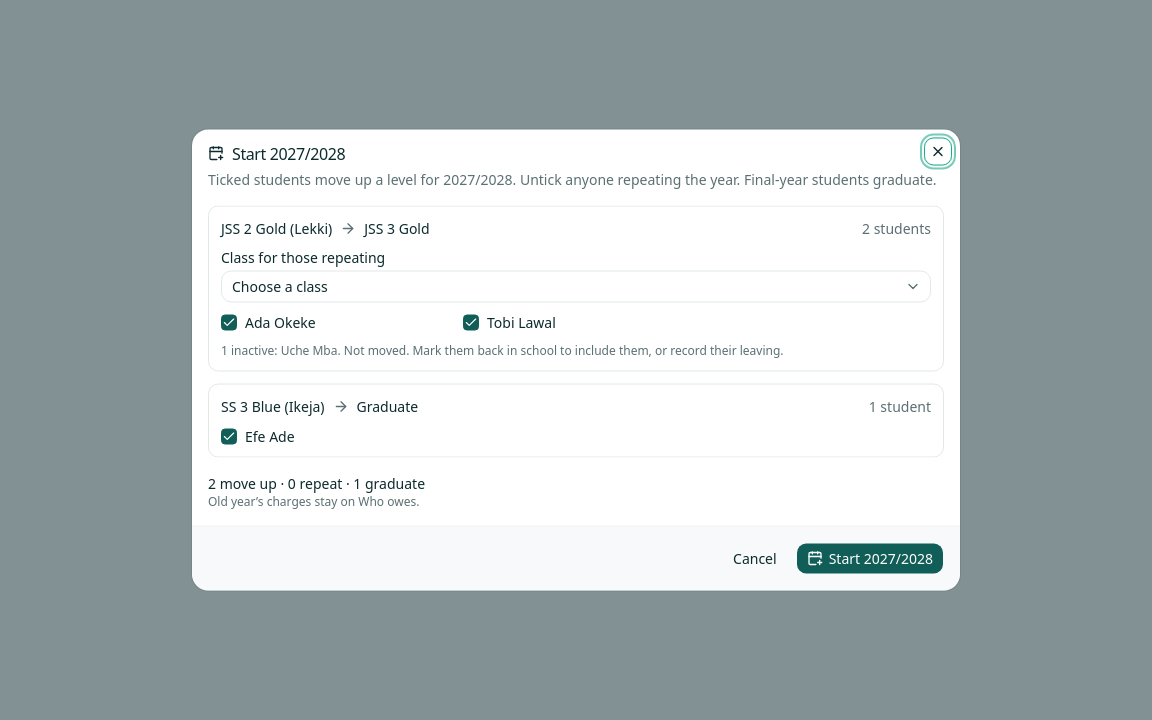
Test case: StartYearDialog › asks for a class for those repeating when the current class is archived
Click the checkbox named "Tobi Lawal" next to "Tobi": (471, 322) [463,314,479,330]
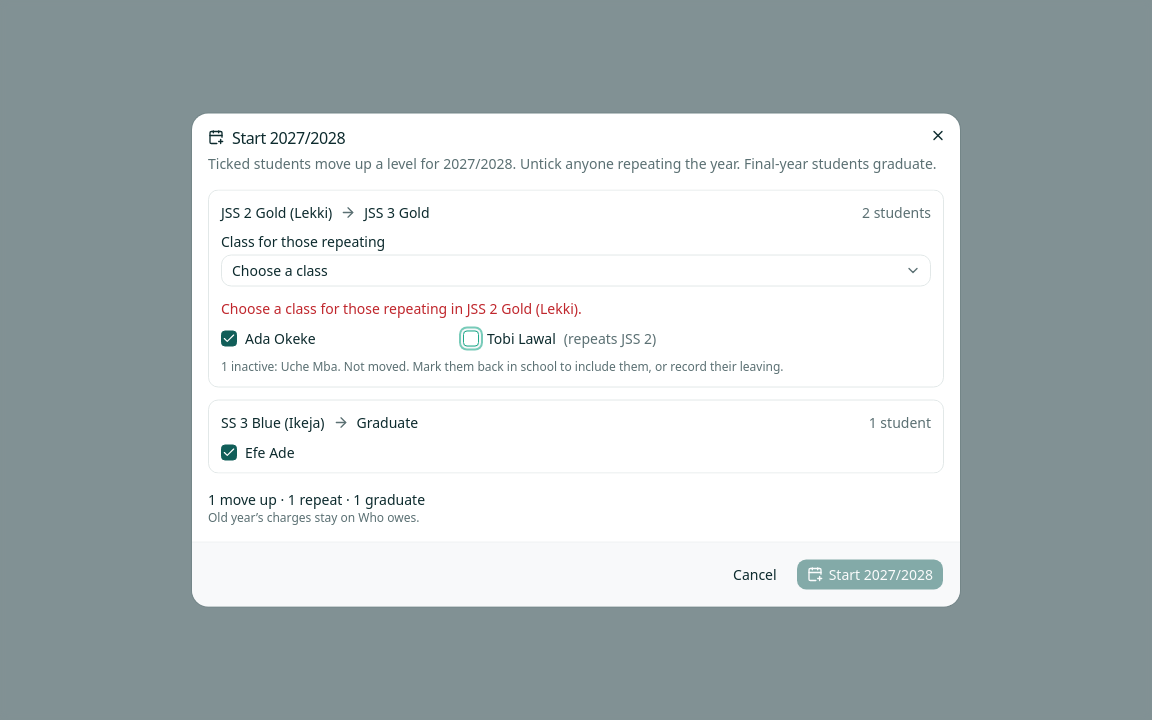
Expected: the text "Choose a class for those repeating in JSS 2 Gold (Lekki)." is shown, [221,298,582,318]
Expected: the button "Start 2027/2028" is disabled, [796,558,944,590]
Select "JSS 2 Silver · Lekki" in the dropdown labelled "Class for those repeating": (576, 270) [221,254,931,286]
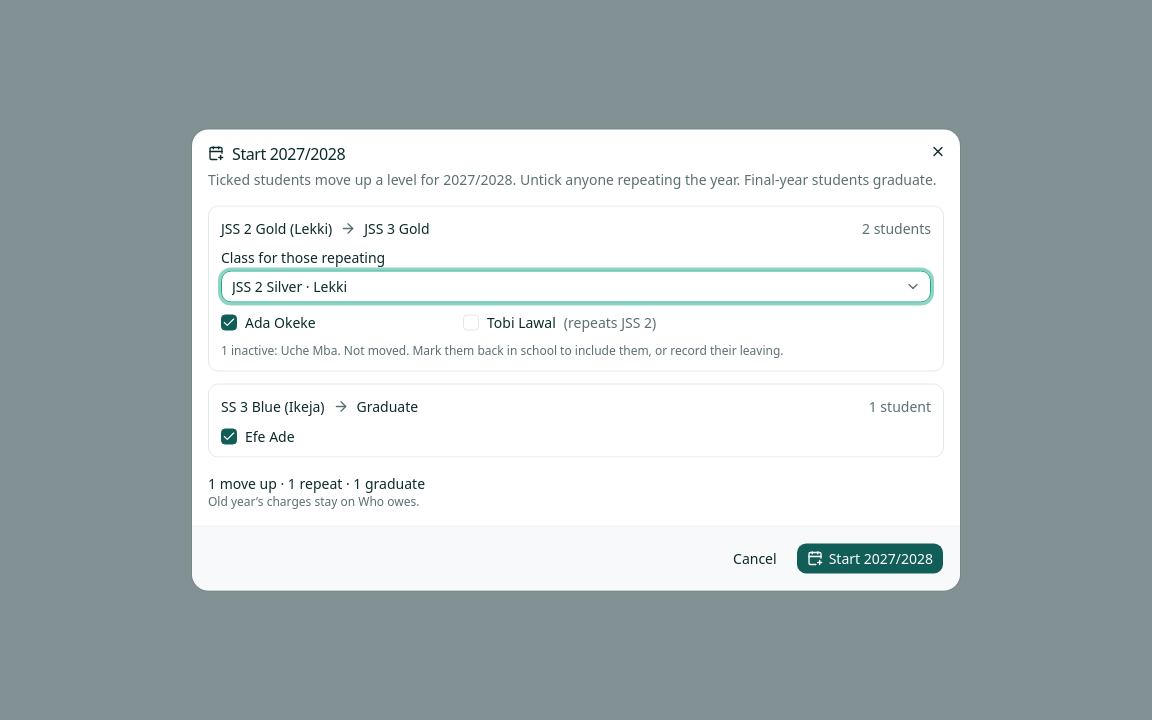
Expected: the button "Start 2027/2028" is enabled, [796,542,944,574]
